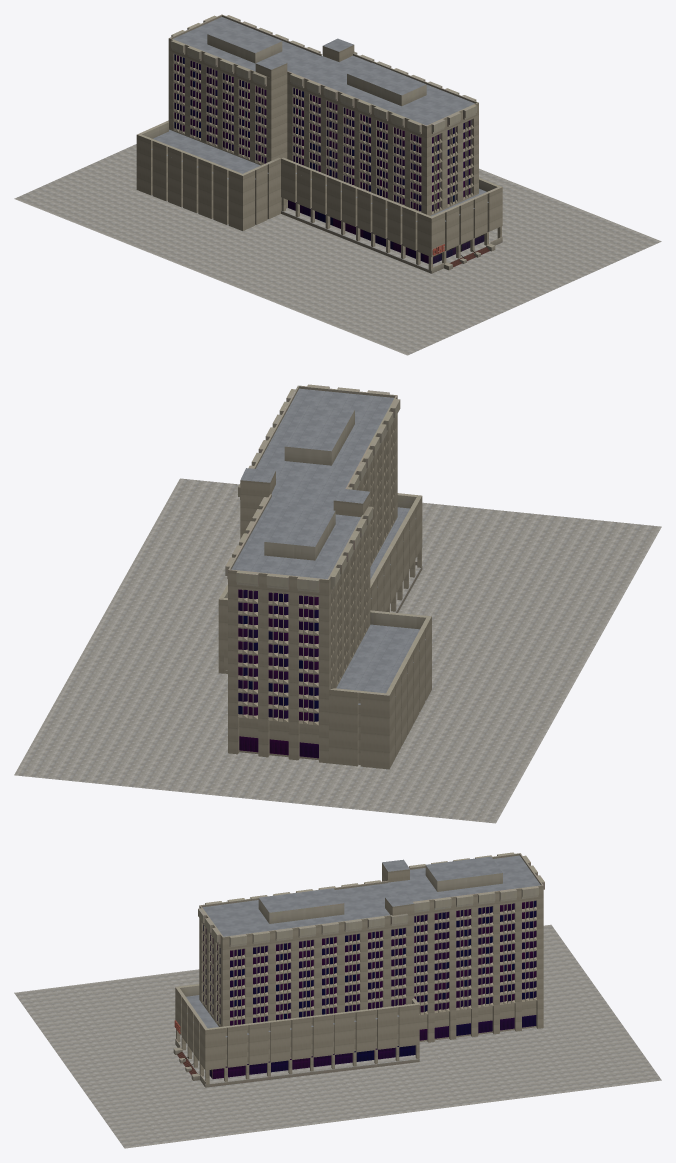
Rendered from oise.glb.
3 renders of one model, top to bottom at view 1: azimuth 30°, elevation 25°; view 2: azimuth 150°, elevation 25°; view 3: azimuth 270°, elevation 25°, orthographic. The views are drawn at different scales.
Parts seen in each view (by area): view 1: OISE_Paving, OISE_Walls, OISE_Roof, OISE_Glass, OISE_Trim, OISE_LobbyGlass; view 2: OISE_Paving, OISE_Walls, OISE_Roof, OISE_Trim, OISE_Glass; view 3: OISE_Paving, OISE_Walls, OISE_Glass, OISE_Roof, OISE_Trim, OISE_LobbyGlass.
Boxes of the visible parts, <box> form: OISE_Paving: <box>14,144,661,355</box>; OISE_Walls: <box>136,38,502,270</box>; OISE_Roof: <box>151,17,488,221</box>; OISE_Glass: <box>174,54,471,211</box>; OISE_Trim: <box>137,14,502,273</box>; OISE_LobbyGlass: <box>288,200,484,263</box>; OISE_Paving: <box>14,478,661,823</box>; OISE_Walls: <box>218,396,431,769</box>; OISE_Roof: <box>231,388,425,704</box>; OISE_Trim: <box>219,384,431,695</box>; OISE_Glass: <box>238,589,318,758</box>; OISE_Paving: <box>14,924,661,1148</box>; OISE_Walls: <box>175,863,543,1084</box>; OISE_Glass: <box>203,901,536,1040</box>; OISE_Roof: <box>181,855,540,1037</box>; OISE_Trim: <box>173,852,544,1087</box>; OISE_LobbyGlass: <box>209,1045,415,1078</box>.
Size of the model in its own units: 162 by 51.45 by 199.
Materials: 8 (6 with a texture image).
